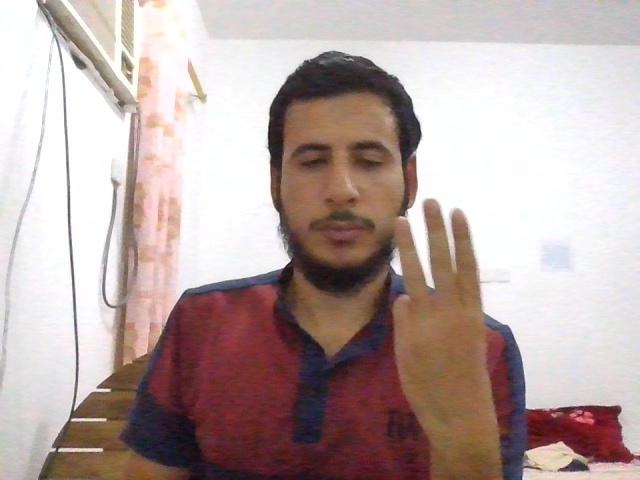Three: (391, 198, 500, 419)
